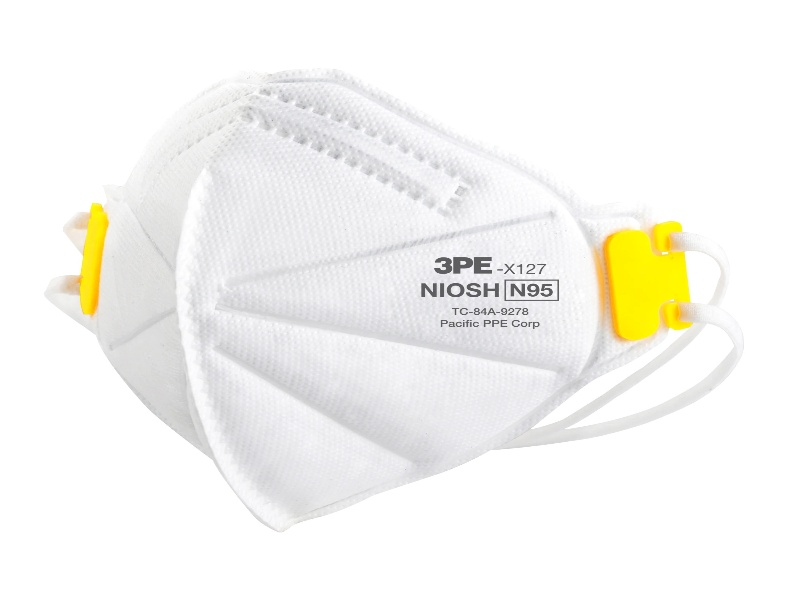mask: (73, 60, 703, 534)
